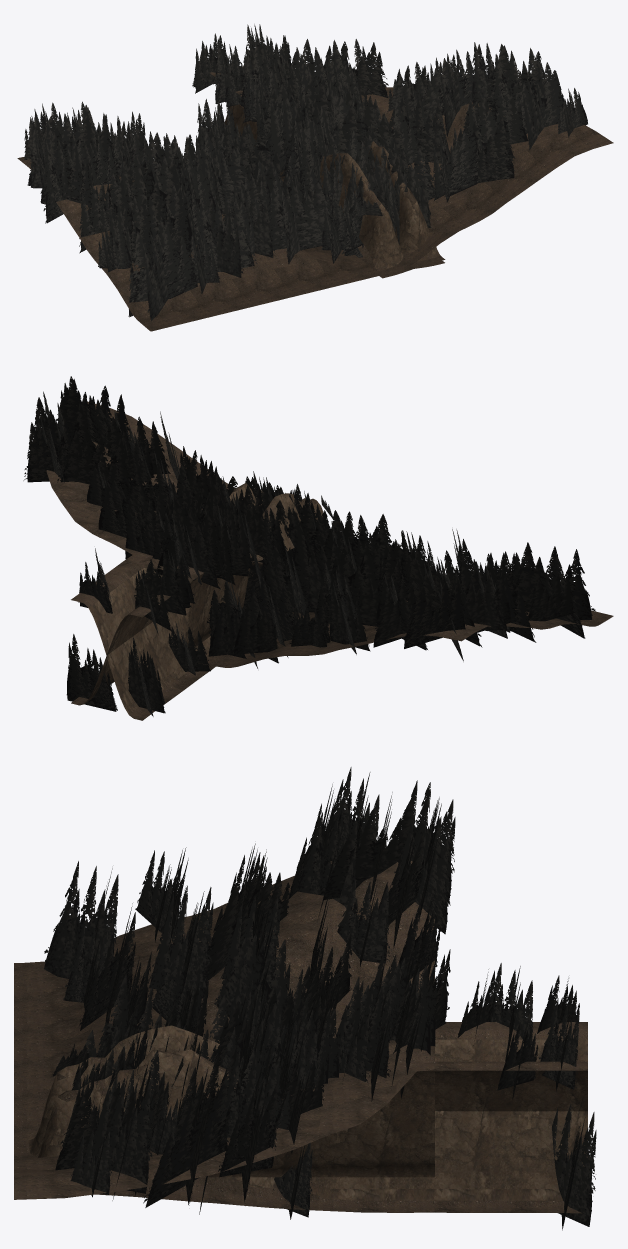
The model's file is bk_town_dead.glb.
3 views of the same model, one above another, from view 1: azimuth 30°, elevation 25°; view 2: azimuth 150°, elevation 25°; view 3: azimuth 270°, elevation 25° (orthographic). The views are drawn at different scales.
Parts seen in each view (by area): view 1: trees_corner_inner, trees_corner_outer, corner_inner, corner_outer, trees_straight12_c, trees_straight6, trees_endcap_land_to_sea, trees_straight12_b, endcap_land_to_sea, trees_endcap_sea_to_land, endcap_sea_to_land, trees_straight12_a (+1 smaller); view 2: trees_corner_inner, trees_corner_outer, endcap_sea_to_land, trees_endcap_land_to_sea, trees_endcap_sea_to_land, trees_straight12_c, corner_outer, corner_inner, trees_straight6, endcap_land_to_sea, trees_straight12_a, pass12 (+1 smaller); view 3: trees_corner_inner, trees_corner_outer, endcap_land_to_sea, corner_inner, endcap_sea_to_land, trees_endcap_land_to_sea, corner_outer, pass12, trees_straight12_c, trees_endcap_sea_to_land, trees_straight12_b, trees_straight12_a (+1 smaller).
Boxes of the visible parts, x1,y1,x2,y2 form: trees_corner_inner: [24, 101, 344, 320]; trees_corner_outer: [250, 38, 587, 202]; corner_inner: [17, 157, 381, 331]; corner_outer: [361, 87, 613, 274]; trees_straight12_c: [243, 48, 431, 247]; trees_straight6: [239, 51, 387, 253]; trees_endcap_land_to_sea: [192, 33, 419, 206]; trees_straight12_b: [254, 65, 430, 244]; endcap_land_to_sea: [209, 72, 444, 271]; trees_endcap_sea_to_land: [196, 24, 387, 257]; endcap_sea_to_land: [225, 65, 440, 278]; trees_straight12_a: [248, 53, 409, 232]; trees_corner_inner: [207, 510, 595, 668]; trees_corner_outer: [23, 376, 306, 578]; endcap_sea_to_land: [71, 483, 274, 720]; trees_endcap_land_to_sea: [66, 503, 254, 711]; trees_endcap_sea_to_land: [78, 495, 321, 716]; trees_straight12_c: [136, 476, 315, 589]; corner_outer: [46, 401, 262, 575]; corner_inner: [198, 574, 613, 667]; trees_straight6: [179, 484, 333, 585]; endcap_land_to_sea: [71, 493, 323, 705]; trees_straight12_a: [125, 482, 321, 558]; pass12: [184, 563, 267, 647]; trees_corner_inner: [44, 767, 455, 1057]; trees_corner_outer: [55, 941, 450, 1207]; endcap_land_to_sea: [28, 1022, 587, 1213]; corner_inner: [14, 861, 434, 1140]; endcap_sea_to_land: [38, 1049, 587, 1157]; trees_endcap_land_to_sea: [80, 953, 596, 1230]; corner_outer: [14, 1055, 423, 1199]; pass12: [17, 1070, 434, 1177]; trees_straight12_c: [63, 963, 436, 1147]; trees_endcap_sea_to_land: [103, 994, 579, 1099]; trees_straight12_b: [74, 966, 392, 1106]; trees_straight12_a: [78, 973, 422, 1119].
Size of the model in its own units: 93.17 by 30.05 by 62.72.
3 materials, 3 textured.
